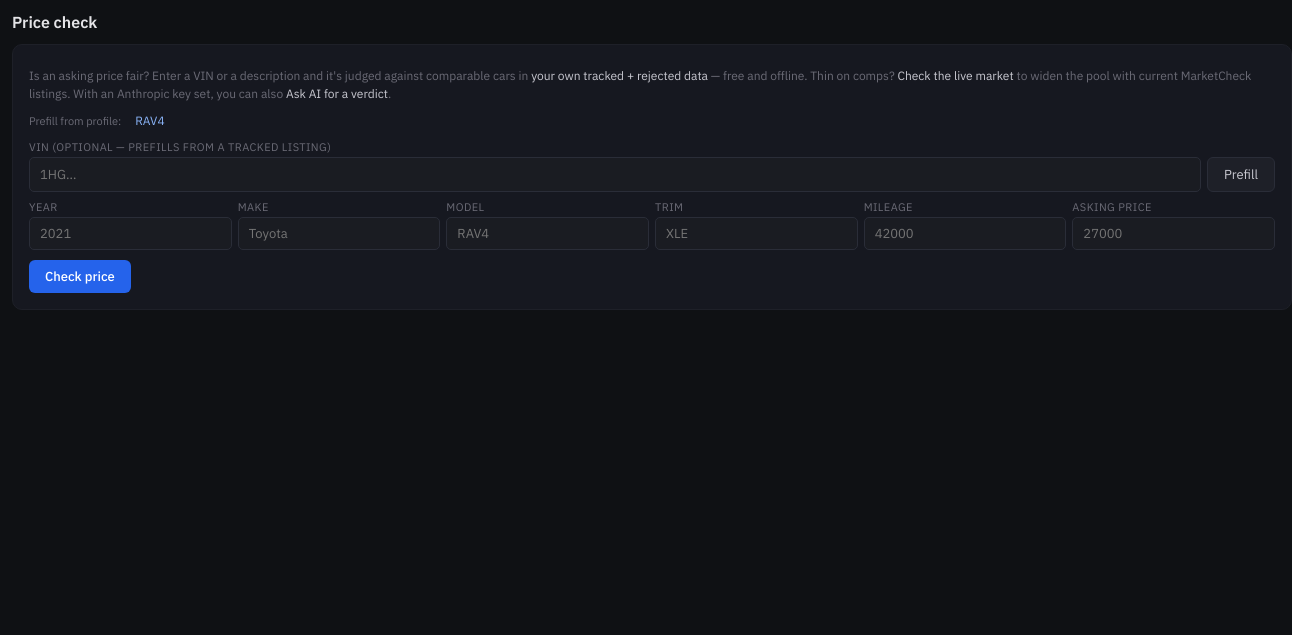
Scenario: PriceCheckTab renders + runs without crashing › prefill-from-profile then check works
Click the button "RAV4". click: (150, 120)
box: [127,109,173,132]
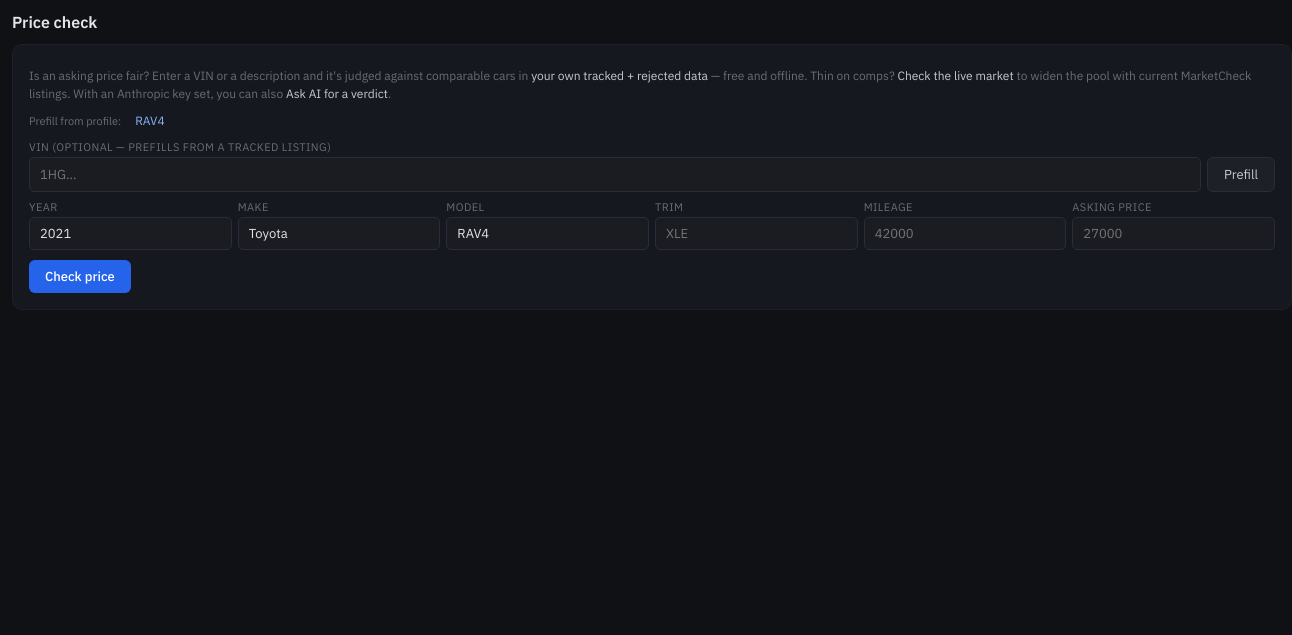
Click the button "Check price". click: (80, 276)
box: [29,260,131,293]
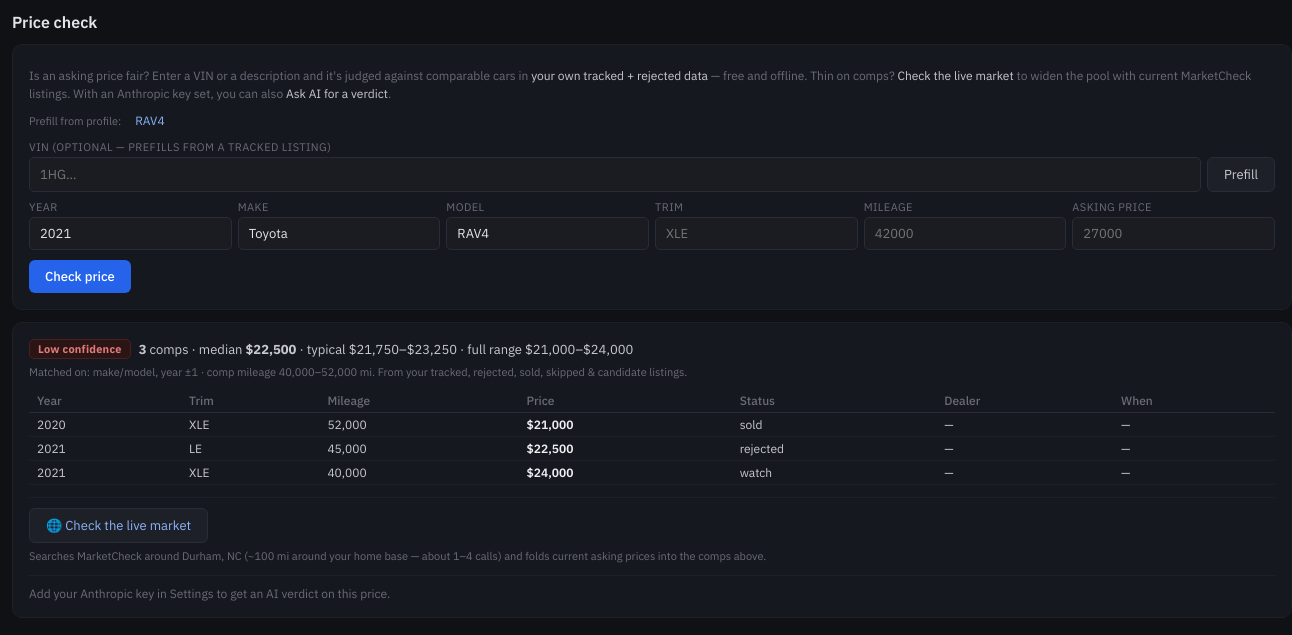
Expected: the text "3 comps · median $22,500 · typical $21,750–$23,250 · full range $21,000–$24,000" is shown, [139,340,633,358]
